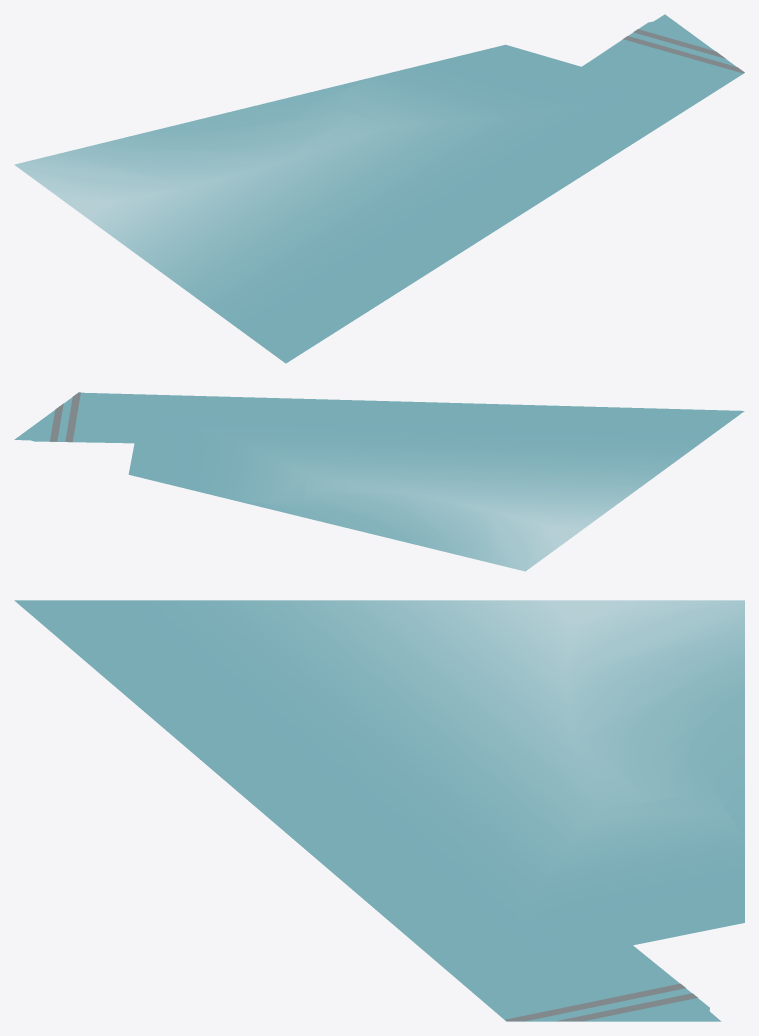
3 views of the same model, one above another, from view 1: azimuth 30°, elevation 25°; view 2: azimuth 150°, elevation 25°; view 3: azimuth 270°, elevation 25° (orthographic). The views are drawn at different scales.
Parts seen in each view (by area): view 1: city; view 2: city; view 3: city.
Part boxes in pixels (bbox=[...]): city: bbox=[14, 14, 744, 363]; city: bbox=[14, 392, 744, 571]; city: bbox=[14, 600, 744, 1021].
Size of the model in its own units: 500 by 0.24 by 367.
